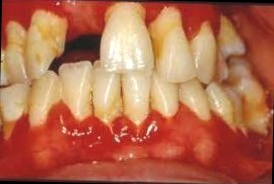Gingivitis: (108, 116, 162, 147)
